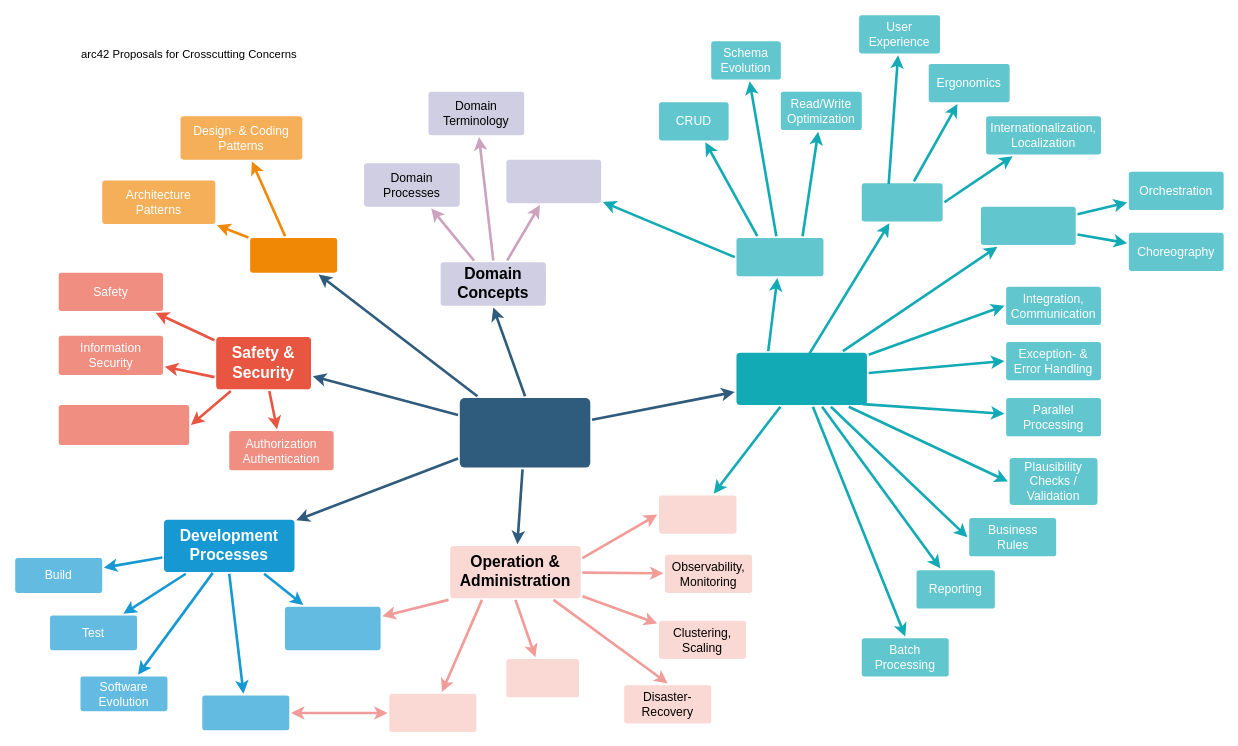
Some shapes in this 1238 by 746 pixel diagram are drawn without their labels. The shapes that lost their labels are listed below. From the top down, each one's box as (x1, y1, x2, y2) in pixels, then its label:
(506, 159, 601, 203): Domain Data Models
(861, 183, 942, 221): User Interface
(980, 206, 1075, 244): Process Control
(250, 238, 337, 272): Patterns
(736, 238, 823, 276): Persistence
(736, 352, 867, 405): Under-the-hood
(58, 405, 189, 445): Safety & Sec. Standards Compliance
(459, 398, 590, 467): Crosscutting Concerns or Concepts
(659, 495, 736, 533): Logging, Tracing
(284, 606, 380, 650): Deployment, Release
(506, 659, 579, 697): High- Availability
(202, 695, 289, 730): Configuration
(389, 693, 476, 732): Provisioning, Setup
